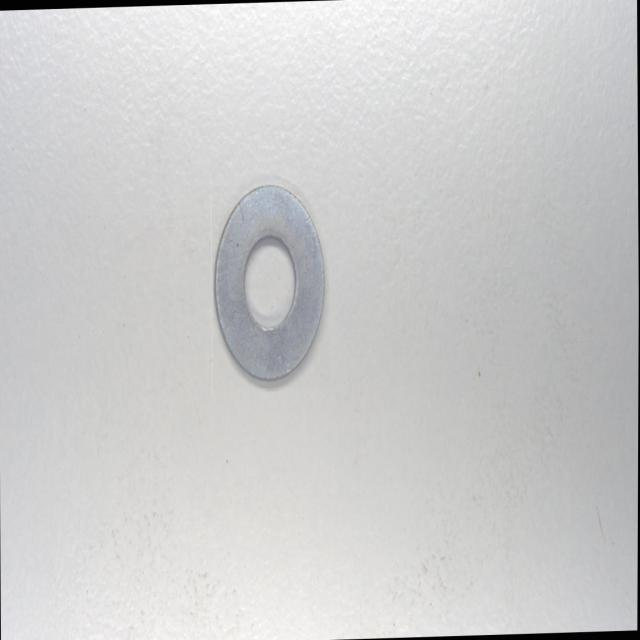washer: (210, 185, 327, 390)
